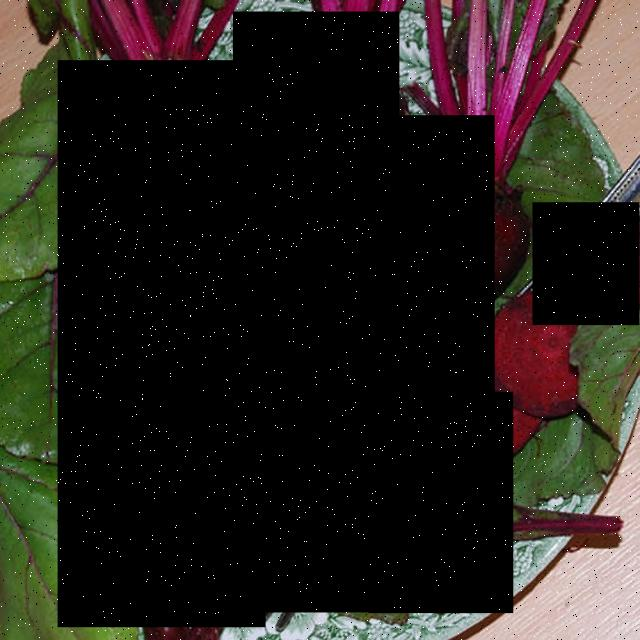Beetroot: (58, 60, 265, 628), (233, 12, 400, 613), (355, 115, 495, 418), (369, 392, 513, 613), (532, 202, 640, 325)
